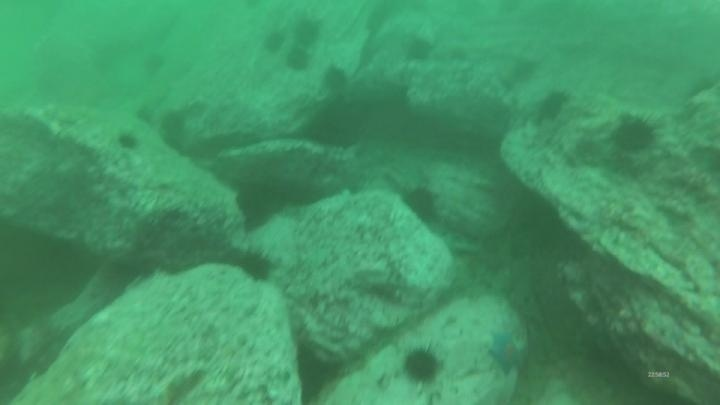echinus: (234, 181, 285, 230), (304, 114, 361, 152), (611, 113, 659, 155), (401, 345, 443, 386), (234, 247, 276, 285), (401, 185, 440, 224), (536, 88, 571, 123), (291, 16, 323, 48), (320, 64, 351, 96), (402, 35, 435, 65), (284, 46, 313, 74), (140, 50, 168, 78), (260, 28, 287, 56), (157, 110, 186, 135), (115, 130, 141, 153), (134, 103, 157, 128), (161, 132, 183, 152)
starfish: (485, 327, 528, 378)
